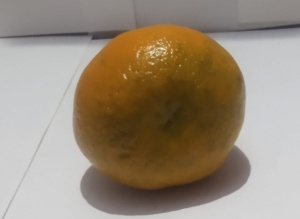BAD: (70, 23, 247, 193)
